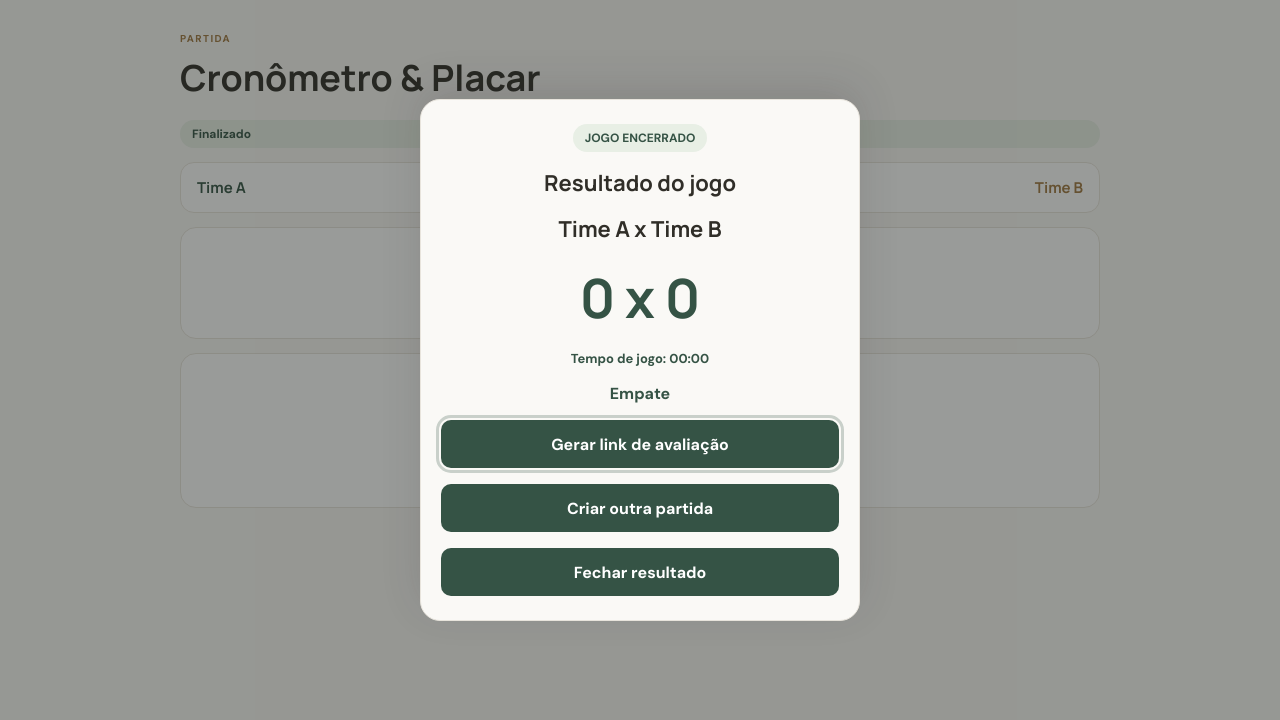
Erros dentro do resultado › exibe falha ao gerar link no próprio modal e permite tentar novamente
Click the button "Gerar link de avaliação" at (640, 444), box [441,420,839,468]
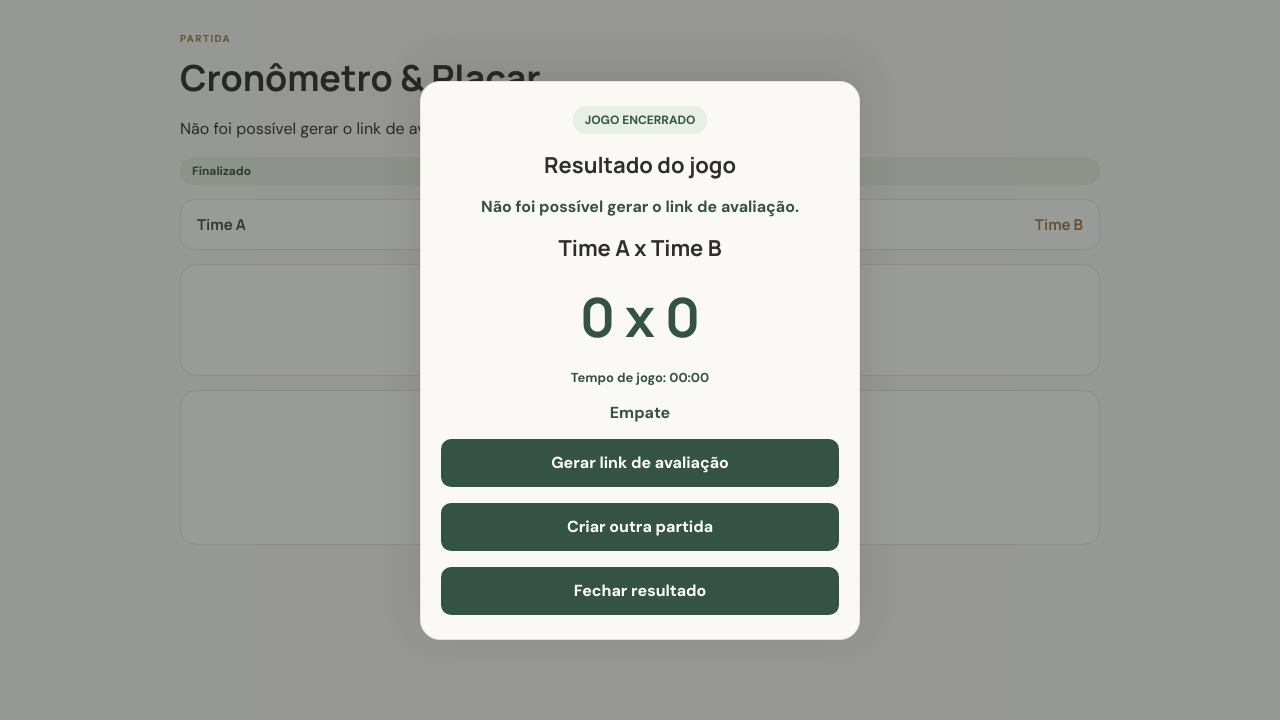
Result: the message "Não foi possível gerar o link de avaliação." below "Resultado do jogo" is shown at [481,196,799,216]
Click the button "Gerar link de avaliação" at (640, 462), box [441,438,839,486]
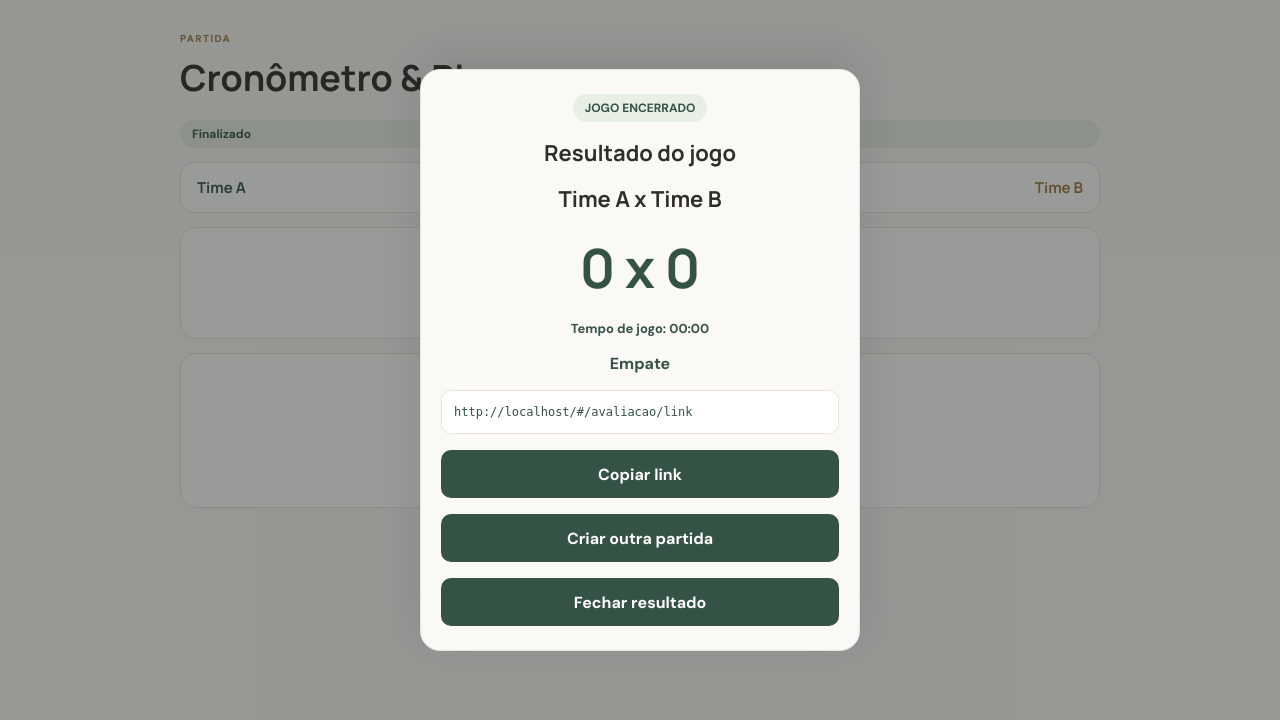
Result: the button "Copiar link" is shown at [441,450,839,498]
